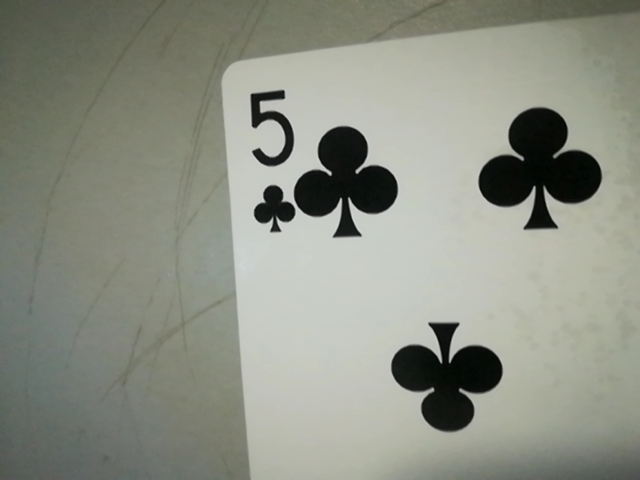mh 5: (236, 80, 302, 242)
